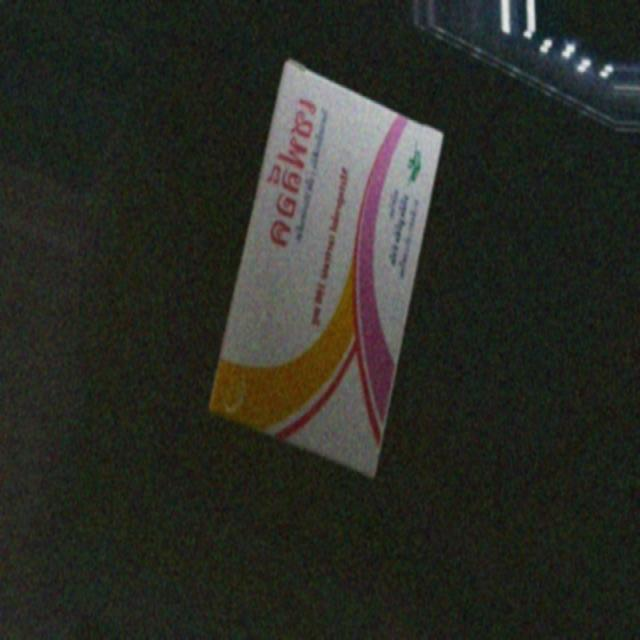sefloc: (208, 63, 439, 477)
